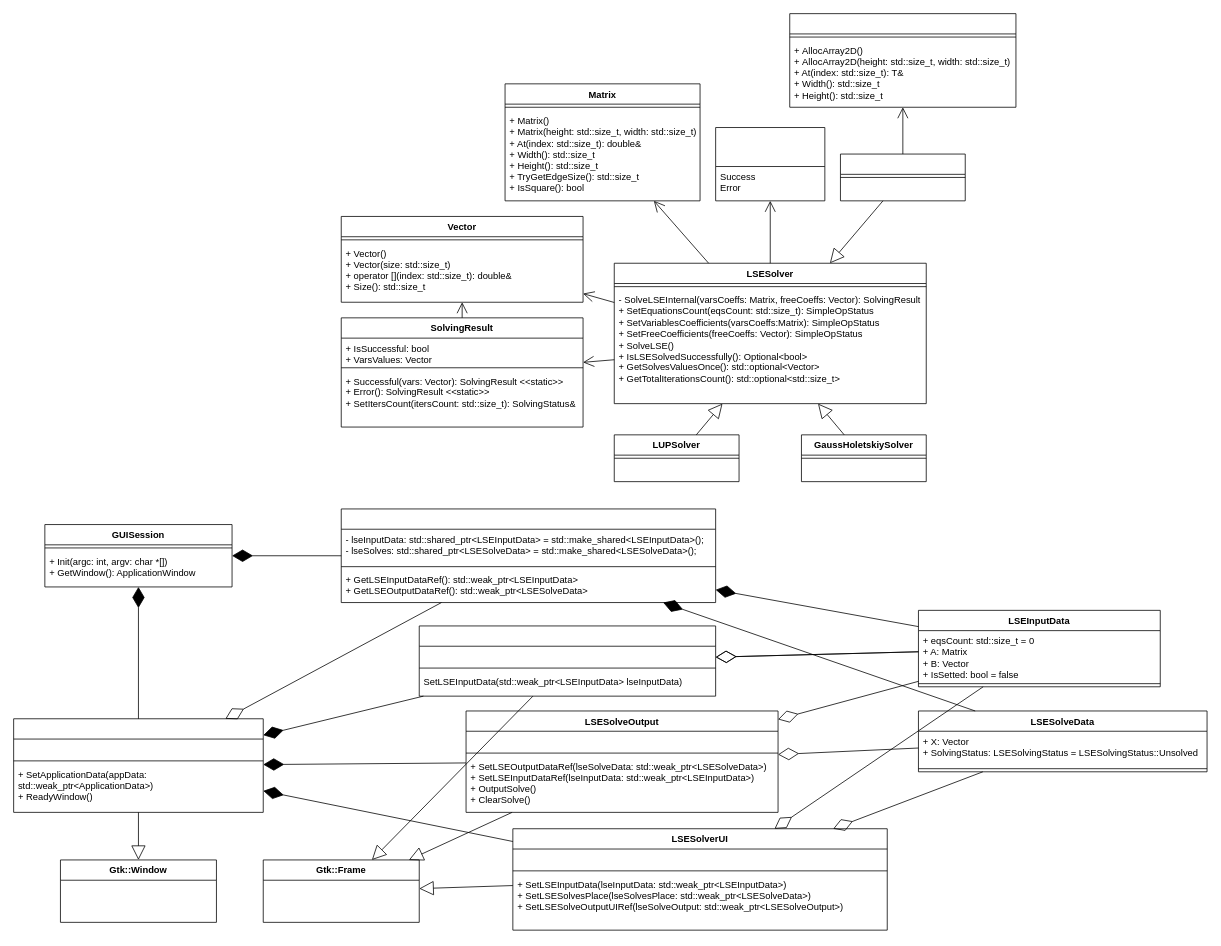
This 1221x946 diagram has some shape labels left out. Here are the shapes that lost their labels. From the top down, the box of each, then its label:
(789, 13, 1016, 107): AllocArray2D<T>
(715, 127, 825, 201): <<enumeration>> SimpleOpStatus
(840, 153, 965, 201): RotationSolver
(340, 508, 716, 603): ApplicationData
(418, 625, 716, 696): LSEConfigurator
(13, 718, 263, 812): ApplicationWindow
